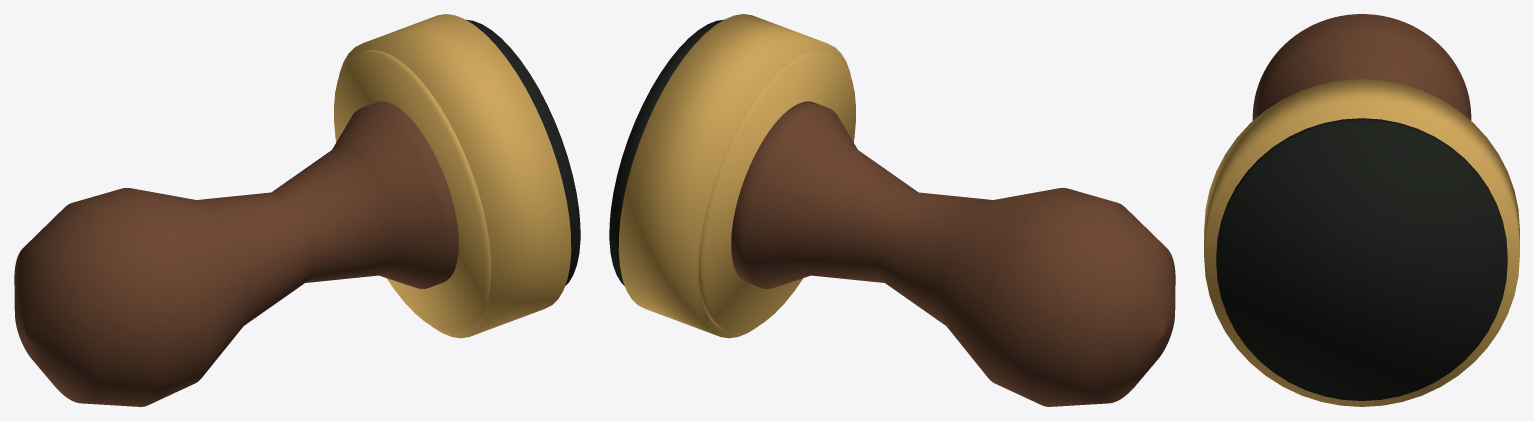
The model's file is stamp.glb.
3 views of the same model, side by side, from view 1: azimuth 30°, elevation 25°; view 2: azimuth 150°, elevation 25°; view 3: azimuth 270°, elevation 25° (orthographic).
Visible parts, largest first — view 1: EXPORT_Turned walnut handle, EXPORT_Base bevel ring, EXPORT_Rubber stamp face; view 2: EXPORT_Turned walnut handle, EXPORT_Base bevel ring, EXPORT_Rubber stamp face; view 3: EXPORT_Rubber stamp face, EXPORT_Base bevel ring, EXPORT_Turned walnut handle.
Part boxes in pixels (<box>): EXPORT_Turned walnut handle: <box>14,101,458,406</box>; EXPORT_Base bevel ring: <box>334,14,571,338</box>; EXPORT_Rubber stamp face: <box>466,19,580,285</box>; EXPORT_Turned walnut handle: <box>731,101,1175,406</box>; EXPORT_Base bevel ring: <box>618,14,855,338</box>; EXPORT_Rubber stamp face: <box>609,19,723,285</box>; EXPORT_Rubber stamp face: <box>1216,118,1507,400</box>; EXPORT_Base bevel ring: <box>1204,79,1519,406</box>; EXPORT_Turned walnut handle: <box>1252,14,1471,120</box>.
Bounding box in the file's own units: 1.43 × 0.801 × 0.78.
Materials: 3 (1 with a texture image).
